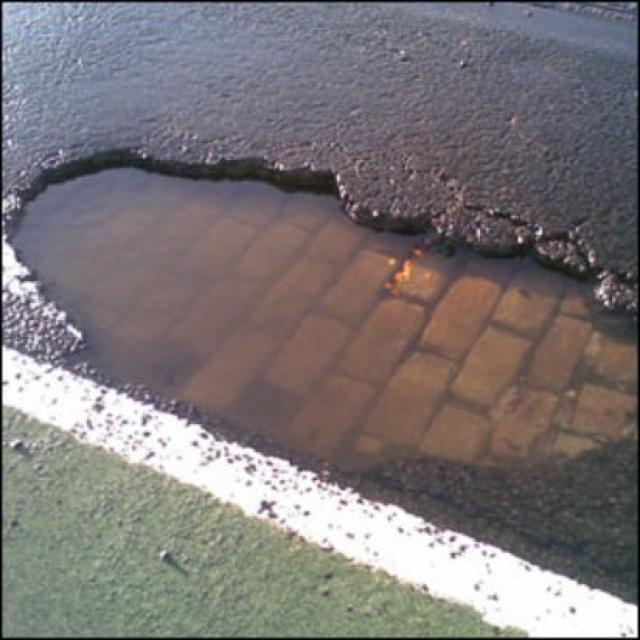pothole: (0, 129, 638, 474)
